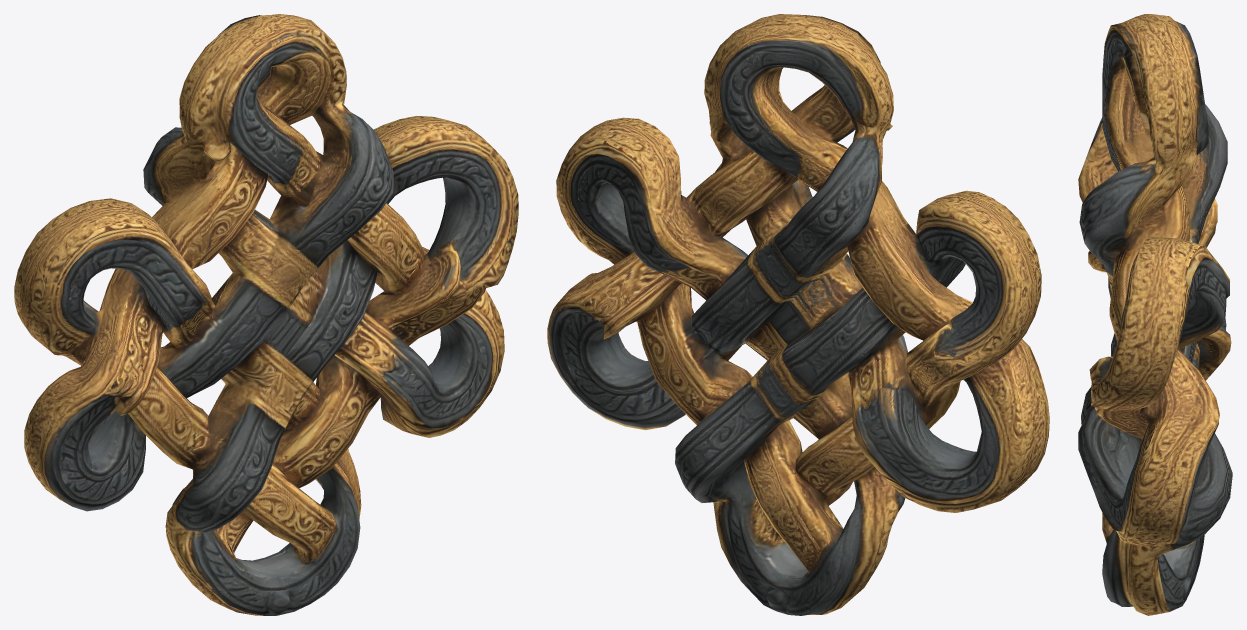
File: selected.glb
The picture shows the model from 3 angles, left to right: view 1: azimuth 30°, elevation 25°; view 2: azimuth 150°, elevation 25°; view 3: azimuth 270°, elevation 25°; orthographic projection.
Visible parts, largest first — view 1: tripo_node_e907d0a2-0511-4891-af00-3e999d585b29; view 2: tripo_node_e907d0a2-0511-4891-af00-3e999d585b29; view 3: tripo_node_e907d0a2-0511-4891-af00-3e999d585b29.
Part boxes in pixels (x1,y1,x2,y2): tripo_node_e907d0a2-0511-4891-af00-3e999d585b29: (14, 14, 518, 615); tripo_node_e907d0a2-0511-4891-af00-3e999d585b29: (547, 14, 1049, 615); tripo_node_e907d0a2-0511-4891-af00-3e999d585b29: (1078, 14, 1232, 615).
Bounding box in the file's own units: 0.8418 × 0.998 × 0.2402.
Materials: 1 (1 with a texture image).
